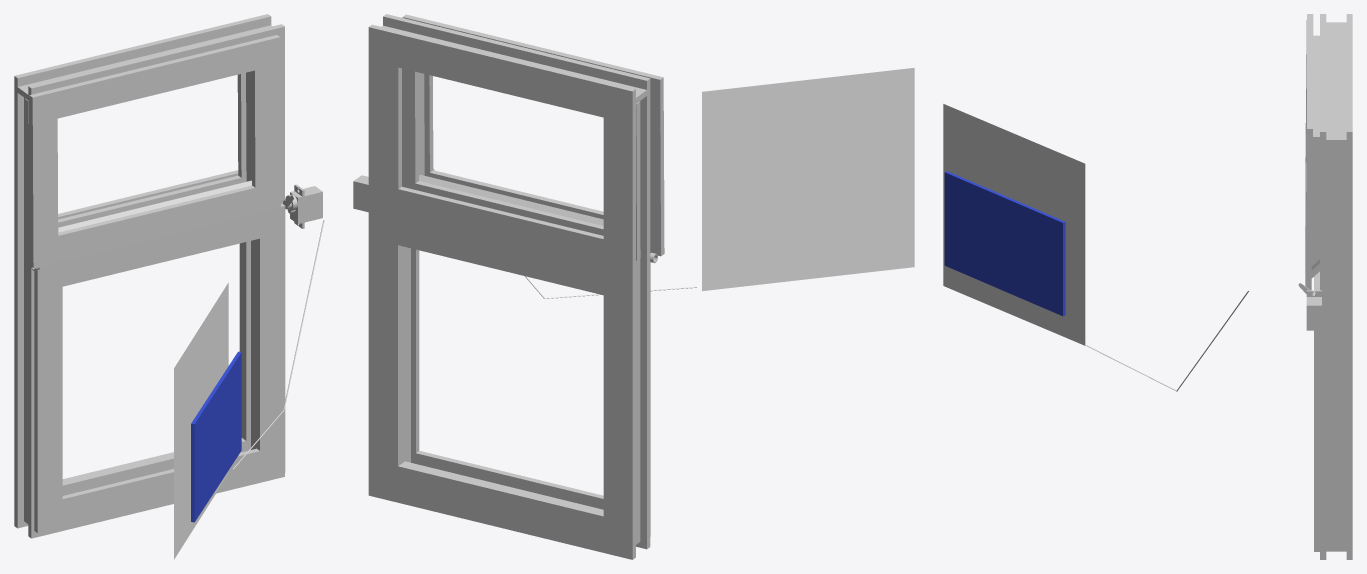
Rendered from window_fs.gltf.
3 renders of one model, left to right at view 1: azimuth 30°, elevation 25°; view 2: azimuth 150°, elevation 25°; view 3: azimuth 270°, elevation 25°, orthographic. The views are drawn at different scales.
Visible parts, largest first — view 1: Mesh78.001, Plane.008, Cube.002, Plane.007; view 2: Mesh78.001, Plane.008; view 3: Mesh78.001, Plane.008, Cube.002.
Part boxes in pixels (x1,y1,x2,y2): Mesh78.001: [14, 14, 322, 538]; Plane.008: [174, 282, 228, 559]; Cube.002: [191, 351, 241, 522]; Plane.007: [233, 220, 324, 469]; Mesh78.001: [353, 14, 664, 559]; Plane.008: [702, 67, 914, 291]; Mesh78.001: [1298, 14, 1352, 559]; Plane.008: [943, 104, 1085, 345]; Cube.002: [944, 171, 1065, 316].
Bounding box in the file's own units: 1.49 × 1.88 × 1.63.
